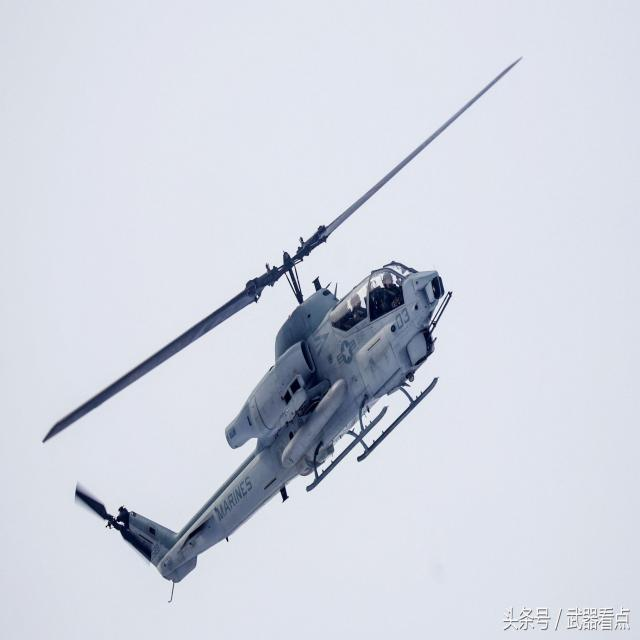MIL_HELO: (32, 45, 546, 612)
